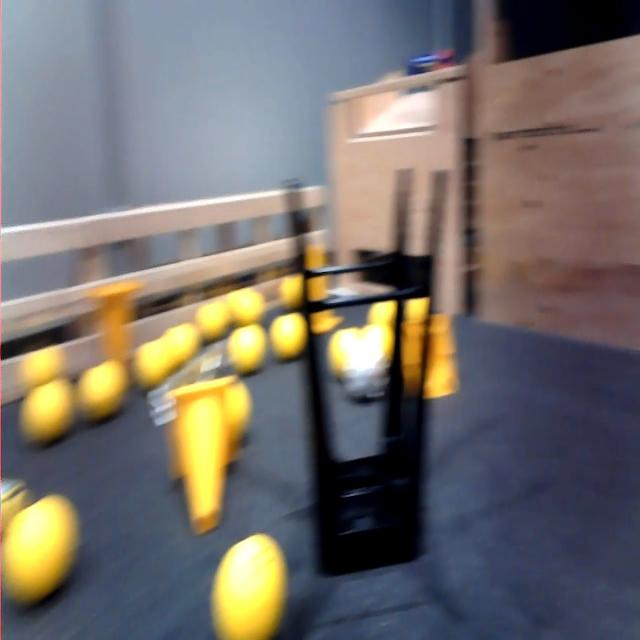fuel: (0, 486, 85, 614), (210, 527, 288, 640), (18, 372, 76, 443), (77, 353, 131, 427), (227, 315, 268, 378), (267, 310, 311, 364), (162, 312, 204, 368), (132, 334, 174, 388), (327, 323, 366, 381), (225, 286, 271, 330), (227, 385, 259, 438), (194, 299, 230, 341), (366, 290, 401, 328), (406, 292, 434, 324)
